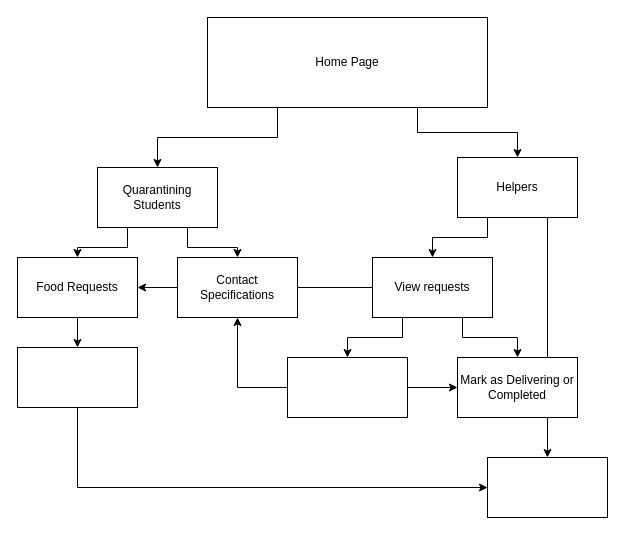
This 625x535 diagram has some shape labels left out. Each missing label, with the centre of its shape:
Allergy Specifications/Notes: the point at 77,377
Ask for further clarification through contact: the point at 347,387
Venmo/etc. Specification for Tips?: the point at 547,487
